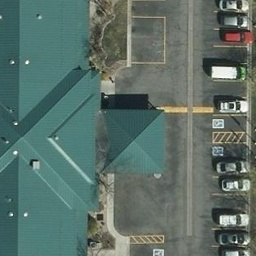car: (217, 229, 250, 247), (216, 210, 249, 228), (215, 159, 251, 174), (211, 66, 247, 81), (220, 29, 256, 44), (217, 98, 250, 112), (221, 177, 251, 192), (218, 13, 248, 26)
